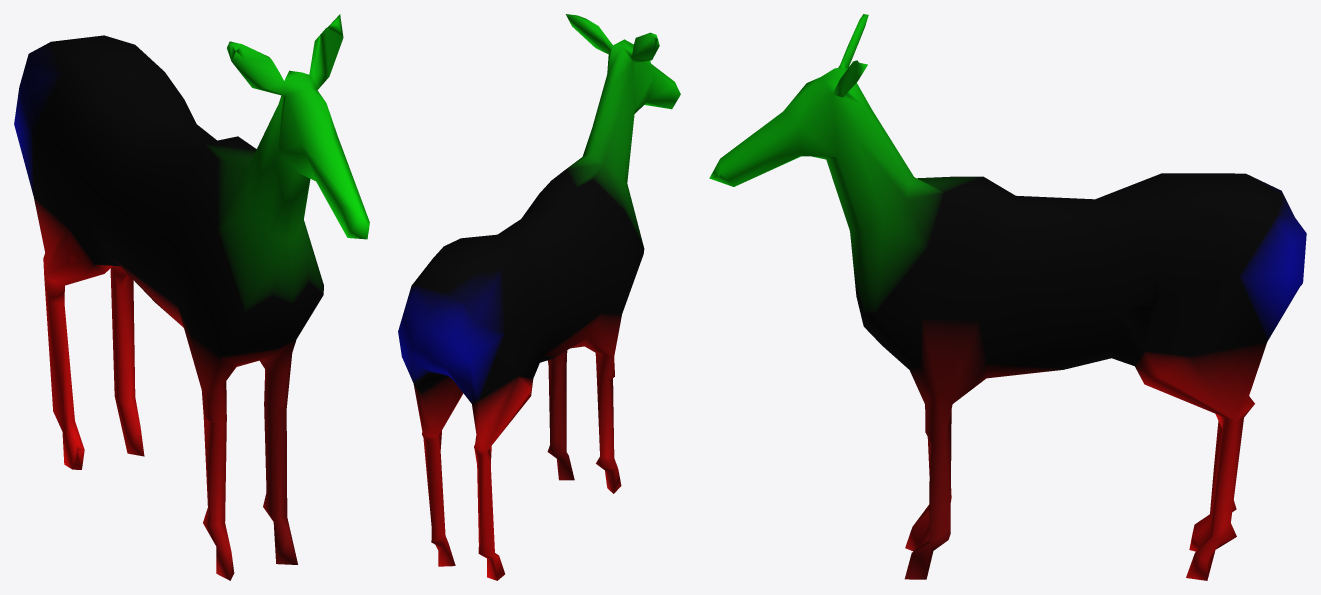
File: deer_red_lod2_bind.glb
3 renders of one model, left to right at view 1: azimuth 30°, elevation 25°; view 2: azimuth 150°, elevation 25°; view 3: azimuth 270°, elevation 25°, orthographic. The views are drawn at different scales.
Visible parts, largest first — view 1: Deer_Body.001; view 2: Deer_Body.001; view 3: Deer_Body.001.
Part boxes in pixels (left/top/right/bottom): Deer_Body.001: left=14, top=14, right=369, bottom=580; Deer_Body.001: left=398, top=14, right=680, bottom=580; Deer_Body.001: left=709, top=14, right=1306, bottom=580.
Size of the model in its own units: 0.3755 by 1.74 by 1.79.
